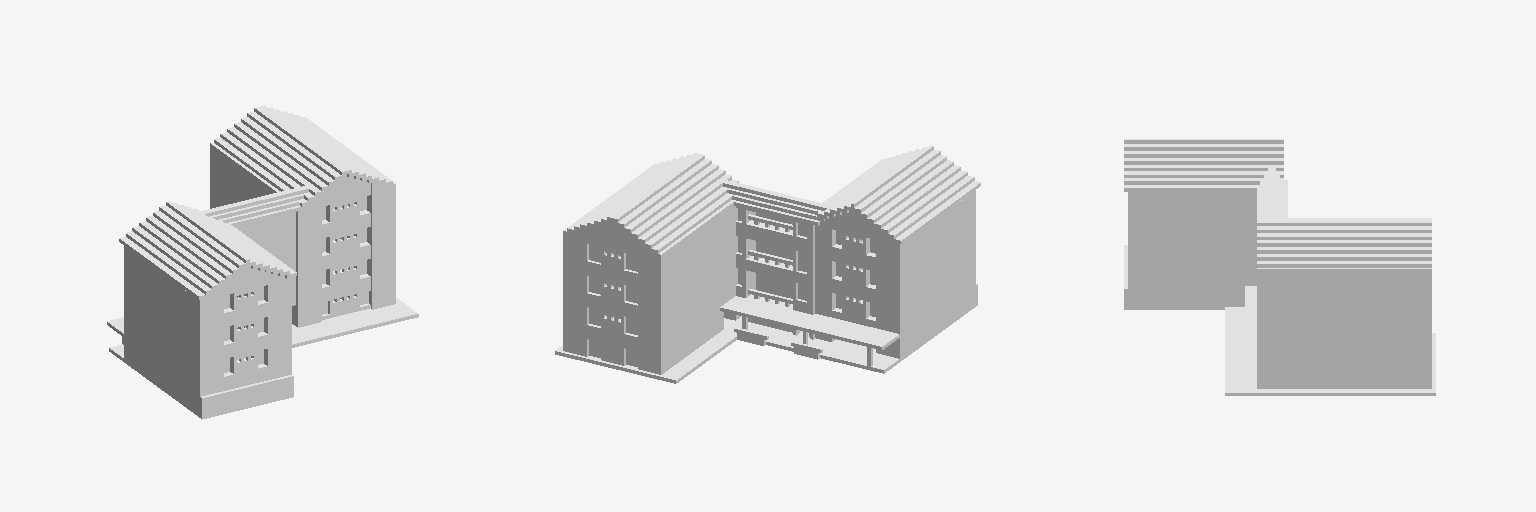
File: bloque15_16_.obj
The picture shows the model from 3 angles: view 1: azimuth 30°, elevation 25°; view 2: azimuth 150°, elevation 25°; view 3: azimuth 270°, elevation 25°; orthographic projection.
Visible parts, largest first — view 1: object 1; view 2: object 1; view 3: object 1.
Part boxes in pixels (left/top/right/bottom): object 1: left=107, top=105, right=418, bottom=419; object 1: left=555, top=145, right=980, bottom=383; object 1: left=1124, top=139, right=1435, bottom=395.
Bounding box in the file's own units: 8 × 4.2 × 8.